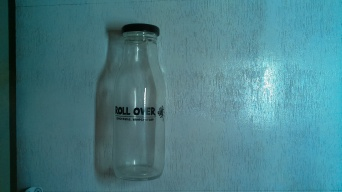f: (99, 18, 178, 185)
